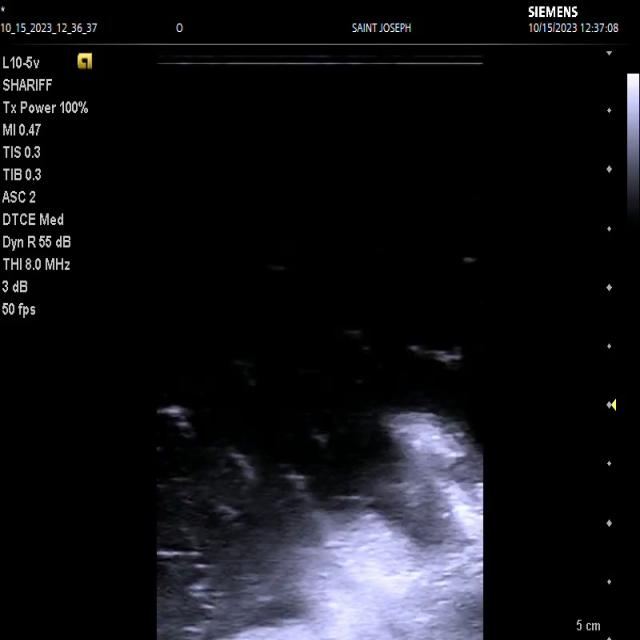tissue: (225, 413, 482, 640)
